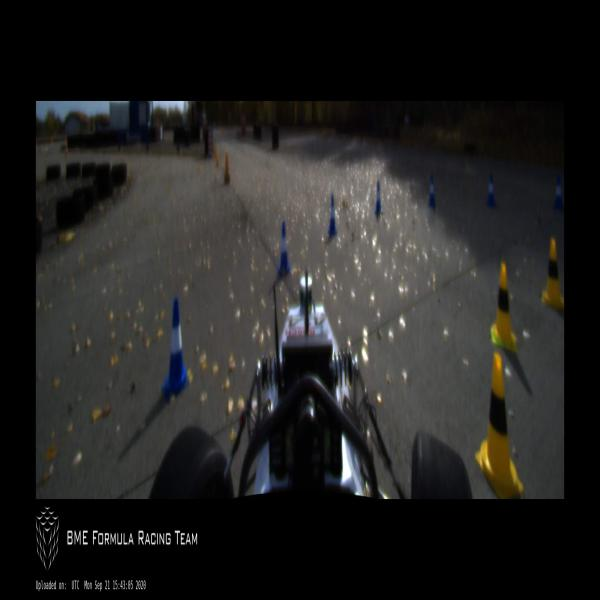blue_cone: (163, 300, 188, 401), (277, 222, 290, 278), (553, 176, 564, 212), (328, 195, 337, 235), (487, 173, 496, 208), (427, 174, 436, 208), (374, 181, 383, 214)
yellow_cone: (475, 355, 524, 498), (490, 261, 516, 353), (542, 240, 564, 312)
